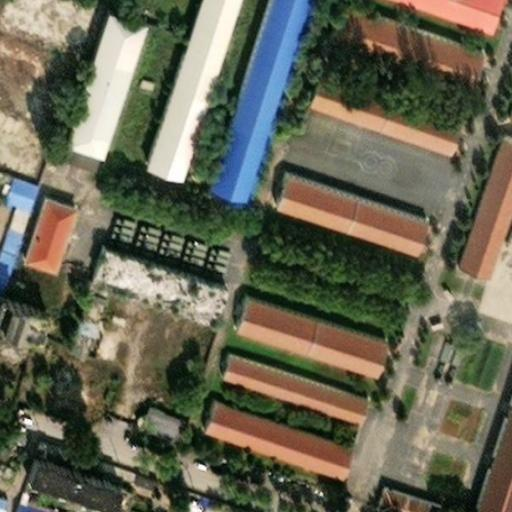building: (293, 36, 461, 151), (266, 163, 421, 246), (226, 285, 379, 366), (190, 388, 341, 468), (54, 1, 135, 142), (213, 341, 359, 415), (77, 234, 215, 311), (449, 125, 512, 270), (29, 430, 145, 483), (469, 387, 511, 512), (24, 447, 125, 494), (9, 188, 64, 261), (56, 281, 89, 342), (129, 394, 172, 429), (192, 493, 257, 512), (17, 494, 64, 512), (134, 70, 156, 91), (0, 492, 13, 512)
